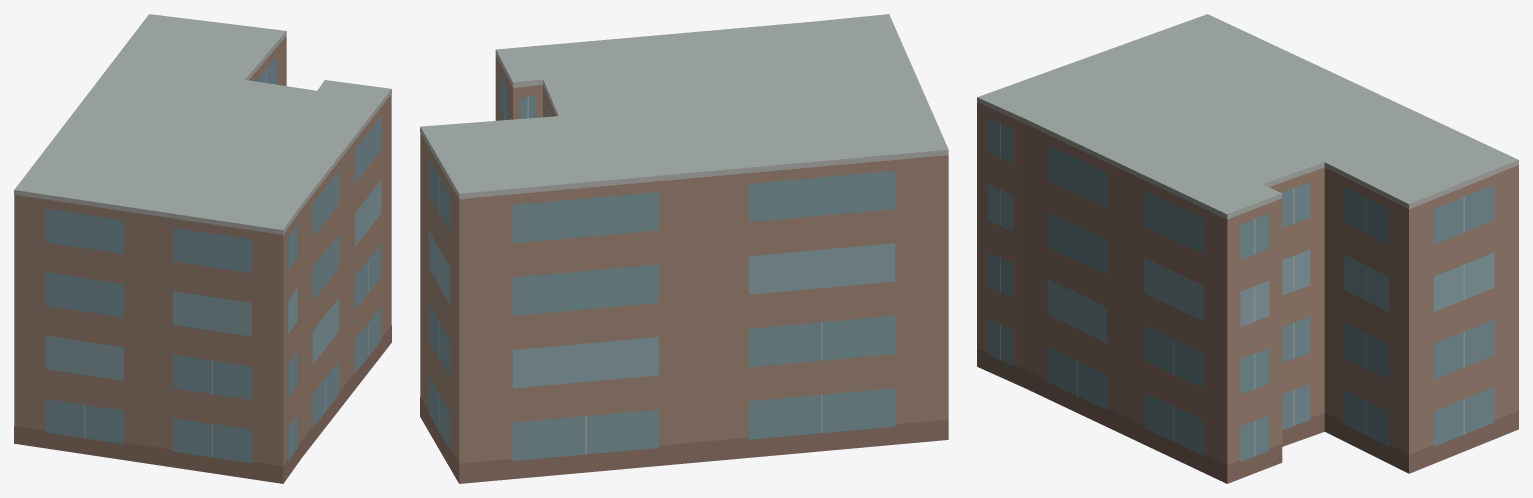
File: survey-upis-32914223.glb
The picture shows the model from 3 angles, left to right: view 1: azimuth 30°, elevation 25°; view 2: azimuth 150°, elevation 25°; view 3: azimuth 270°, elevation 25°; orthographic projection. The views are drawn at different scales.
Parts seen in each view (by area): view 1: survey-upis-32914223.tmp; view 2: survey-upis-32914223.tmp; view 3: survey-upis-32914223.tmp.
Part boxes in pixels (left/top/right/bottom): survey-upis-32914223.tmp: left=14, top=14, right=391, bottom=483; survey-upis-32914223.tmp: left=420, top=14, right=948, bottom=483; survey-upis-32914223.tmp: left=977, top=14, right=1518, bottom=483.
Bounding box in the file's own units: 20.75 × 13 × 23.7.
